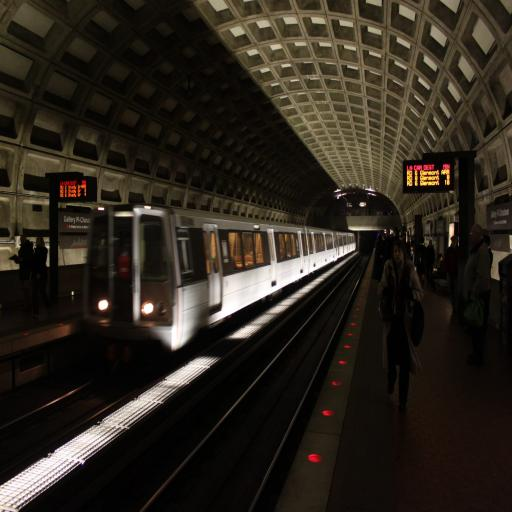platform_edge: (265, 240, 385, 505)
